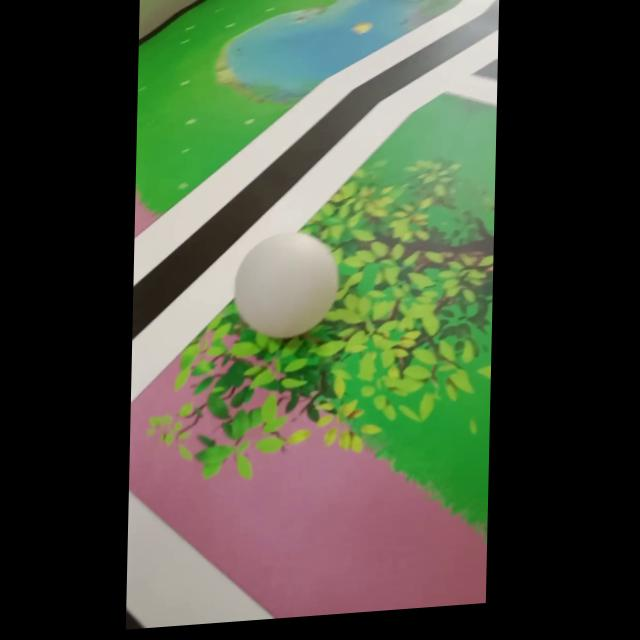white ball: (232, 227, 340, 343)
